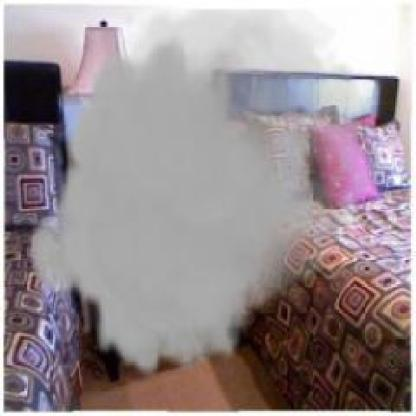Smoke: (26, 10, 392, 378)
